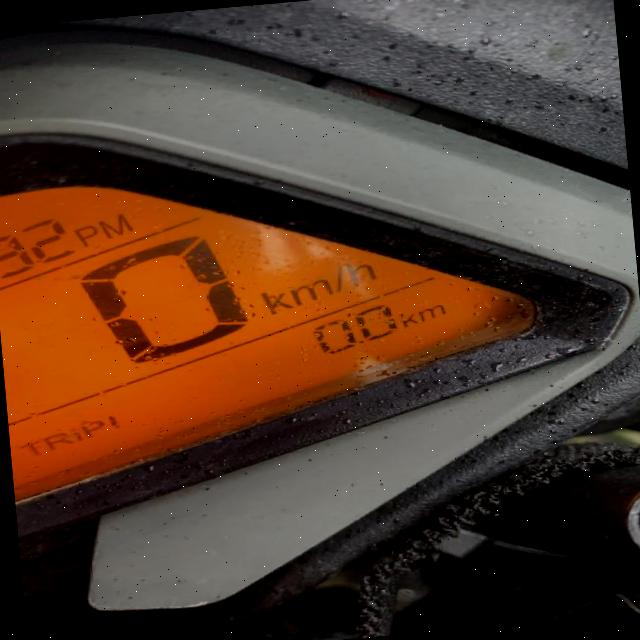odometer: (0, 140, 556, 506)
